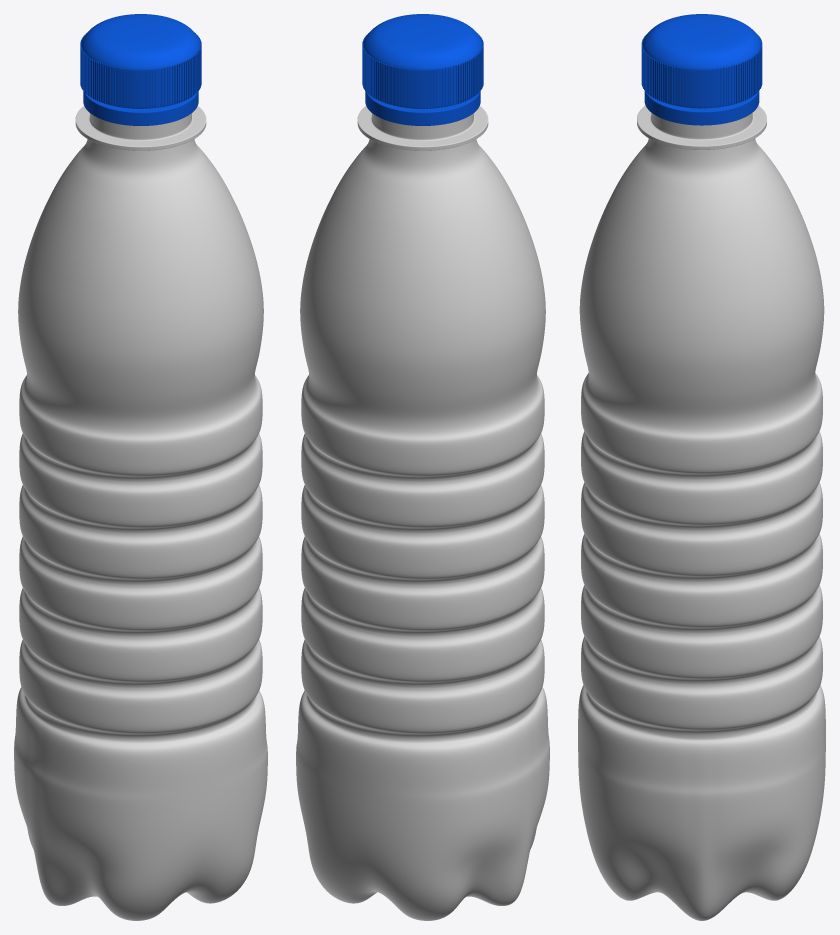
Rendered from plastic_bottle.glb.
3 views of the same model, side by side, from view 1: azimuth 30°, elevation 25°; view 2: azimuth 150°, elevation 25°; view 3: azimuth 270°, elevation 25° (orthographic).
Parts seen in each view (by area): view 1: plastic bottle_3; view 2: plastic bottle_3; view 3: plastic bottle_3.
Boxes of the visible parts, box(x1,y1,x2,y2) form: plastic bottle_3: box(14, 14, 267, 920); plastic bottle_3: box(296, 14, 549, 920); plastic bottle_3: box(578, 14, 825, 920).
Size of the model in its own units: 1.32 by 4.97 by 1.32.
